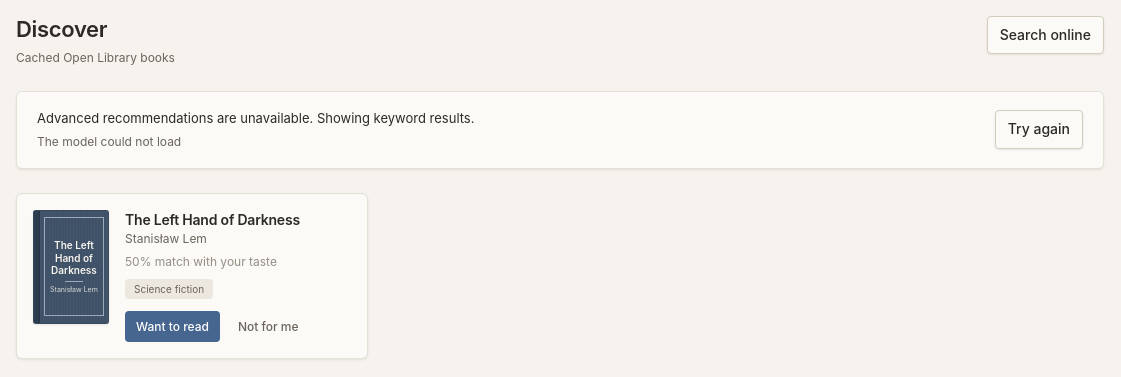
Scenario: advanced recommendations › automatically falls back on error and can retry Hybrid
This screenshot has width=1121, height=377.
Expected: the text "Advanced recommendations are unavailable. Showing keyword results." is shown, [37,108,474,128]
Step 1. Click the button "Try again" → (1039, 130), box [995,110,1083,149]
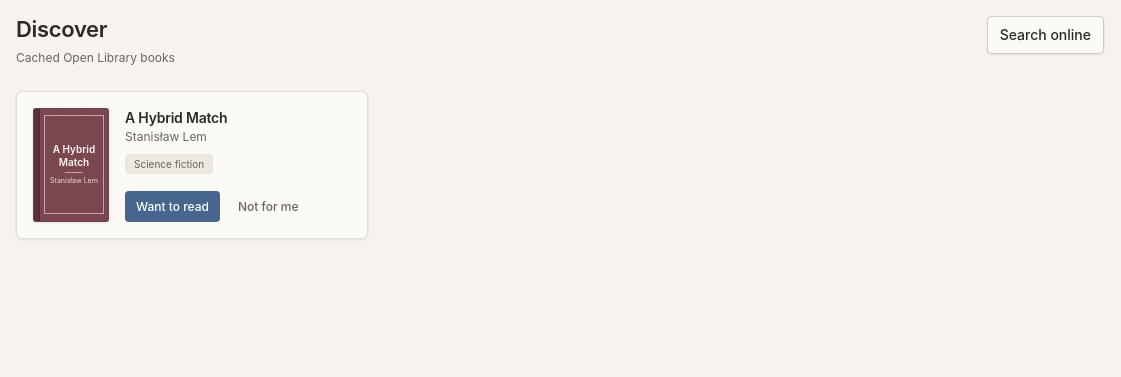
Now the text "Advanced recommendations are unavailable. Showing keyword results." is gone
